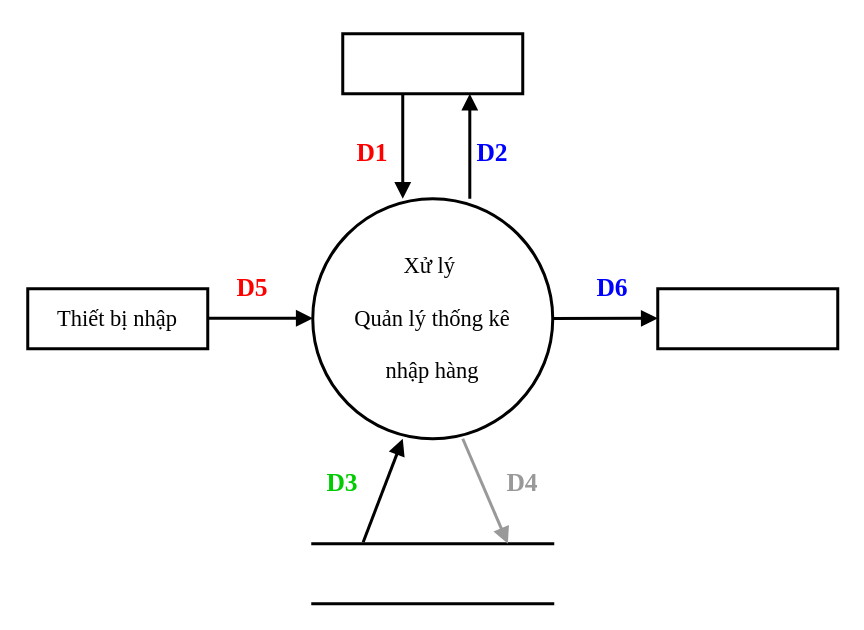
The diagram is 864 pixels wide and 630 high, and some of its shapes have lost their labels. The centre of each missing label's shape, as x and y in pixels:
"Nhân viên" goes at point (432, 63).
"Thiết bị xuất" goes at point (747, 318).
